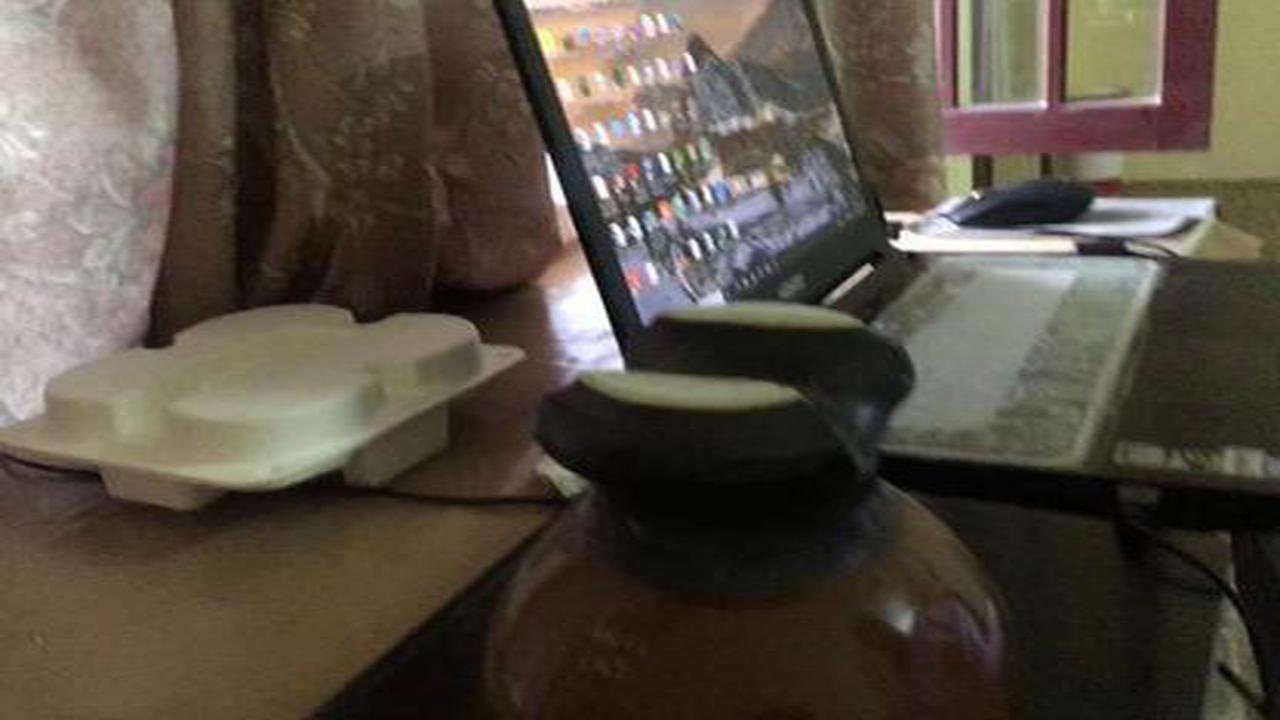insulator_pin: (459, 293, 1050, 720)
